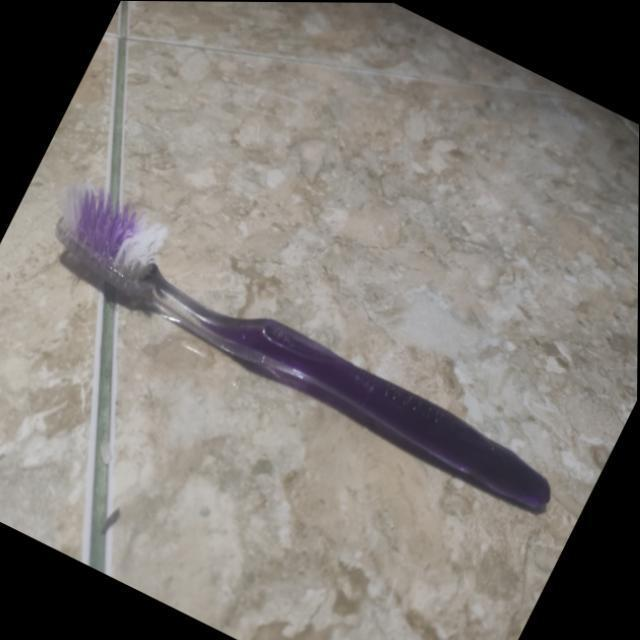toothbrush: (29, 177, 598, 535)
